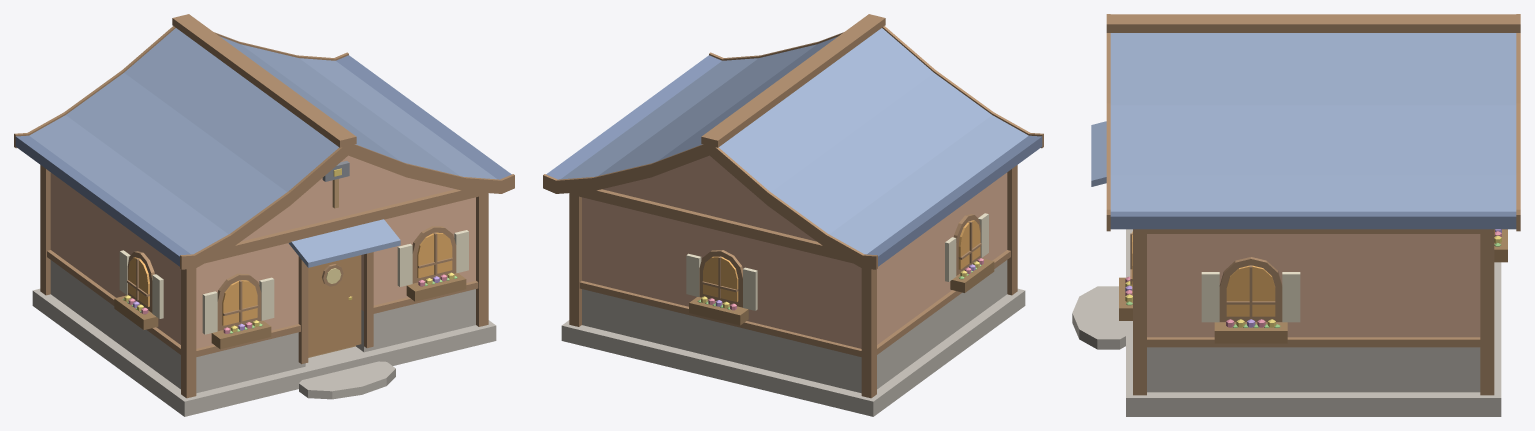
The model's file is forge.glb.
3 renders of one model, left to right at view 1: azimuth 30°, elevation 25°; view 2: azimuth 150°, elevation 25°; view 3: azimuth 270°, elevation 25°, orthographic. The views are drawn at different scales.
Visible parts, largest first — view 1: Player; view 2: Player; view 3: Player.
Boxes of the visible parts, bbox=[...] form: Player: bbox=[14, 14, 514, 416]; Player: bbox=[543, 14, 1043, 416]; Player: bbox=[1072, 14, 1520, 416].
Bounding box in the file's own units: 6.84 × 4.82 × 6.45.
